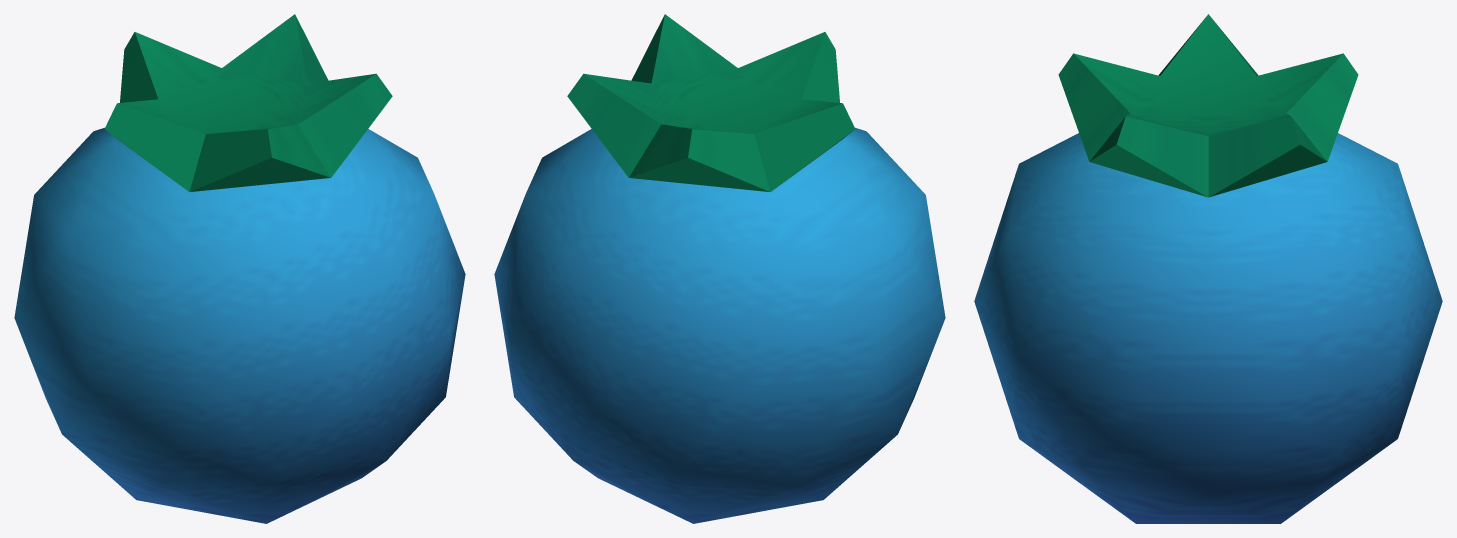
The model's file is Food_Berry_Blue.gltf.
3 views of the same model, side by side, from view 1: azimuth 30°, elevation 25°; view 2: azimuth 150°, elevation 25°; view 3: azimuth 270°, elevation 25° (orthographic).
Visible parts, largest first — view 1: Food_Berry_Blue; view 2: Food_Berry_Blue; view 3: Food_Berry_Blue.
Part boxes in pixels (x1=…): Food_Berry_Blue: x1=14, y1=14, x2=465, y2=523; Food_Berry_Blue: x1=494, y1=14, x2=945, y2=523; Food_Berry_Blue: x1=974, y1=14, x2=1442, y2=523.
Bounding box in the file's own units: 0.234 × 0.2578 × 0.2461.
Materials: 1 (1 with a texture image).
